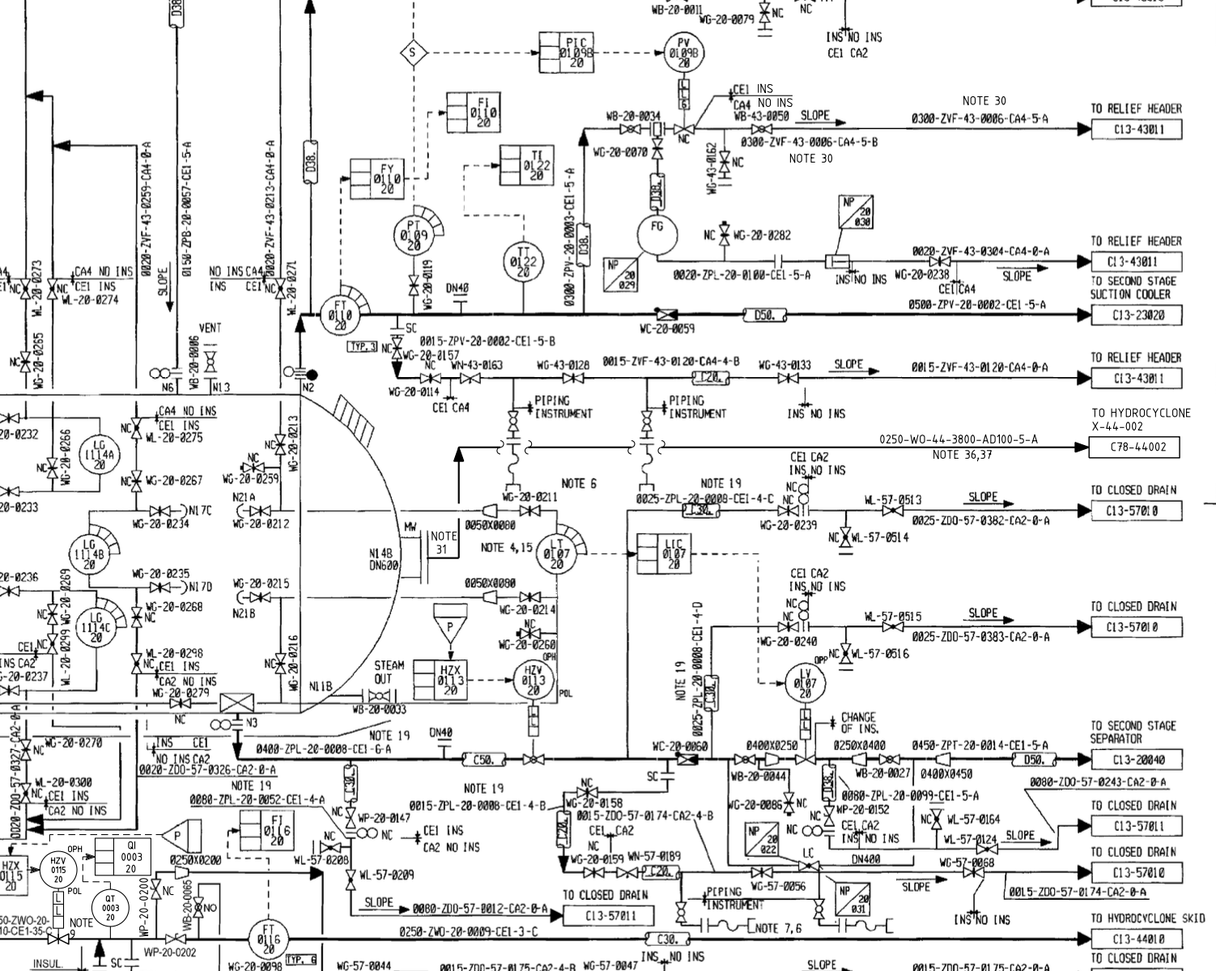Instrument: (497, 235, 548, 285), (241, 914, 294, 962), (72, 603, 121, 651), (75, 431, 124, 479), (510, 655, 558, 704), (63, 530, 113, 577), (659, 28, 709, 75), (389, 212, 438, 258), (532, 532, 580, 578), (781, 659, 829, 705), (317, 292, 363, 339), (36, 849, 83, 892), (88, 888, 133, 927)
Instrument-square: (553, 23, 602, 78), (461, 85, 504, 138), (108, 834, 155, 880), (428, 653, 470, 704), (364, 154, 408, 202), (653, 530, 695, 577), (518, 139, 557, 189)
